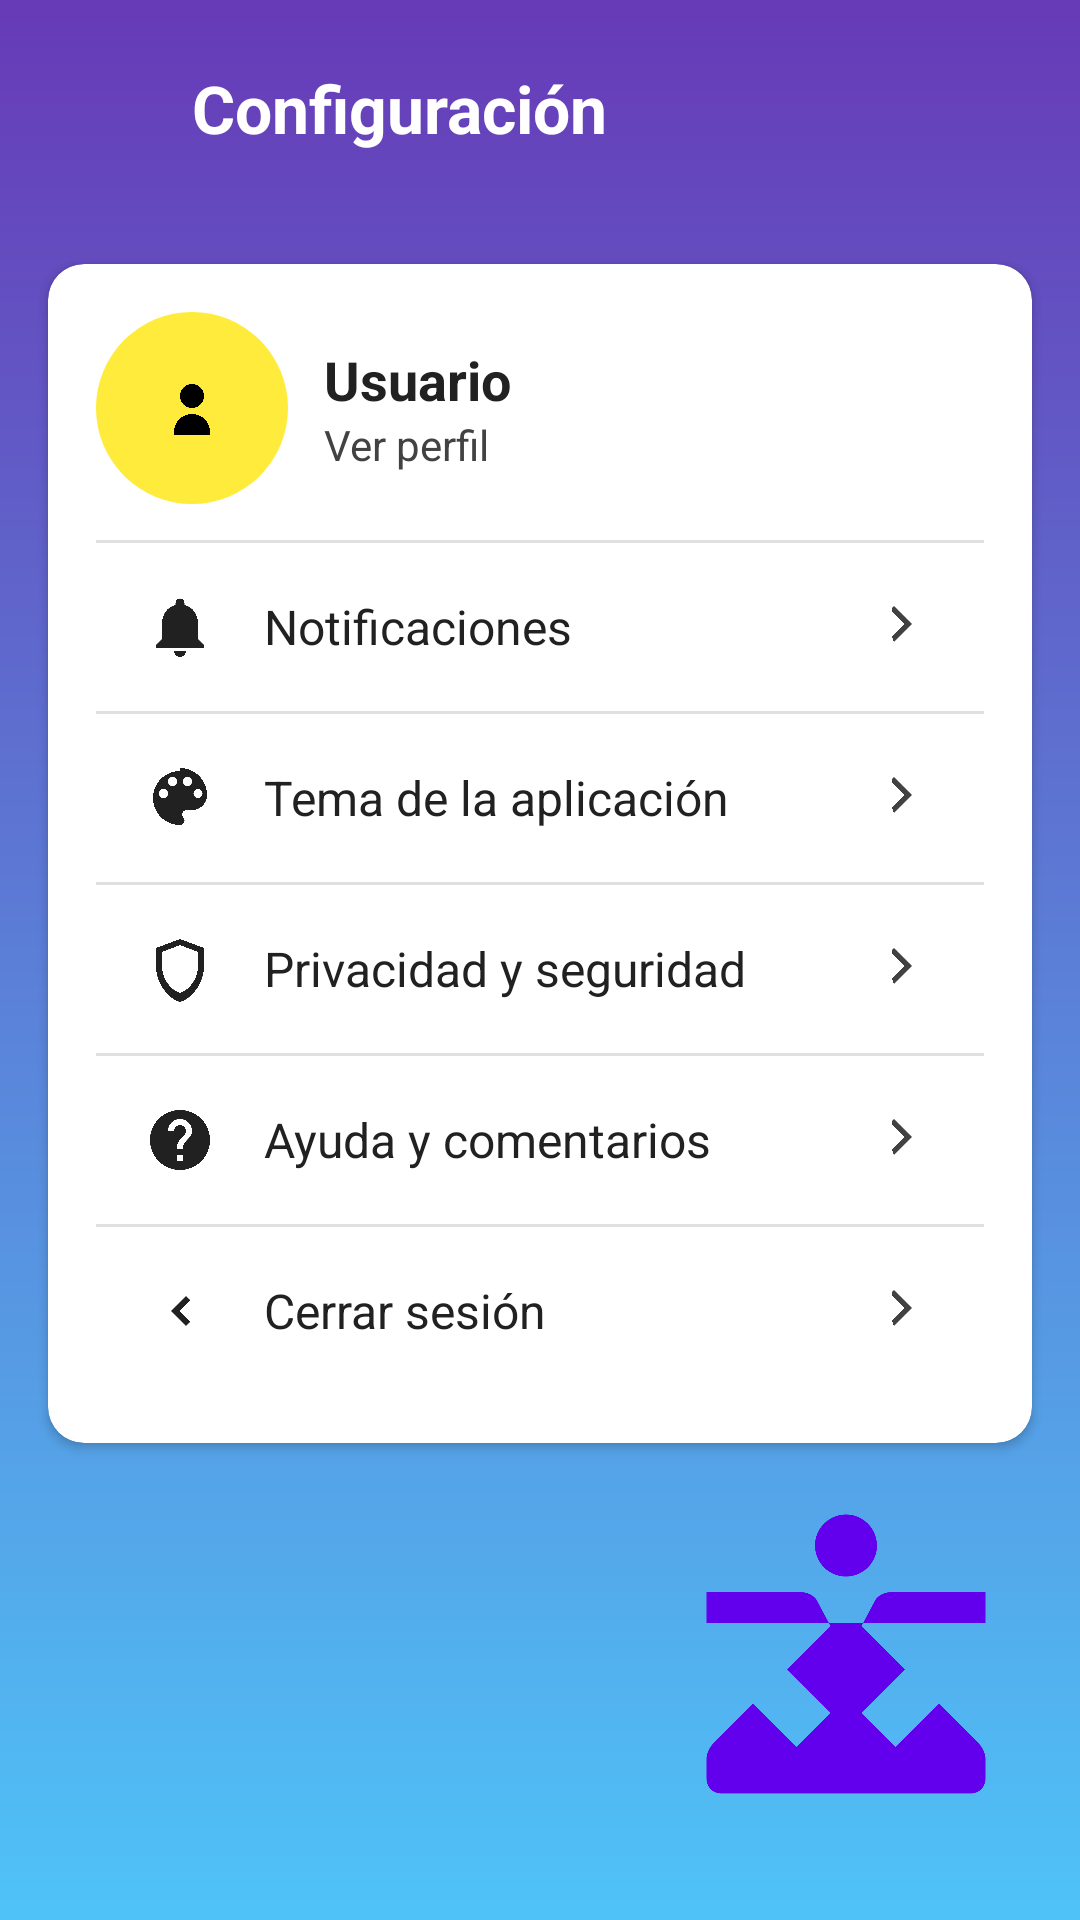

Locate icon controls on the screen. Image size 1080px x 1920px, boxes as (x1, y1, x2, y2).
Flecha de navegación: (892, 606, 912, 642), (892, 777, 912, 813), (892, 948, 912, 984), (892, 1119, 912, 1155), (892, 1290, 912, 1326)
Flecha hacia la izquierda: (171, 1296, 190, 1326)
Icono de ayuda: (150, 1110, 210, 1170)
Icono de escudo de seguridad: (156, 939, 204, 1002)
Icono de notificación: (156, 599, 204, 657)
Icono de paleta de colores: (153, 768, 207, 825)
